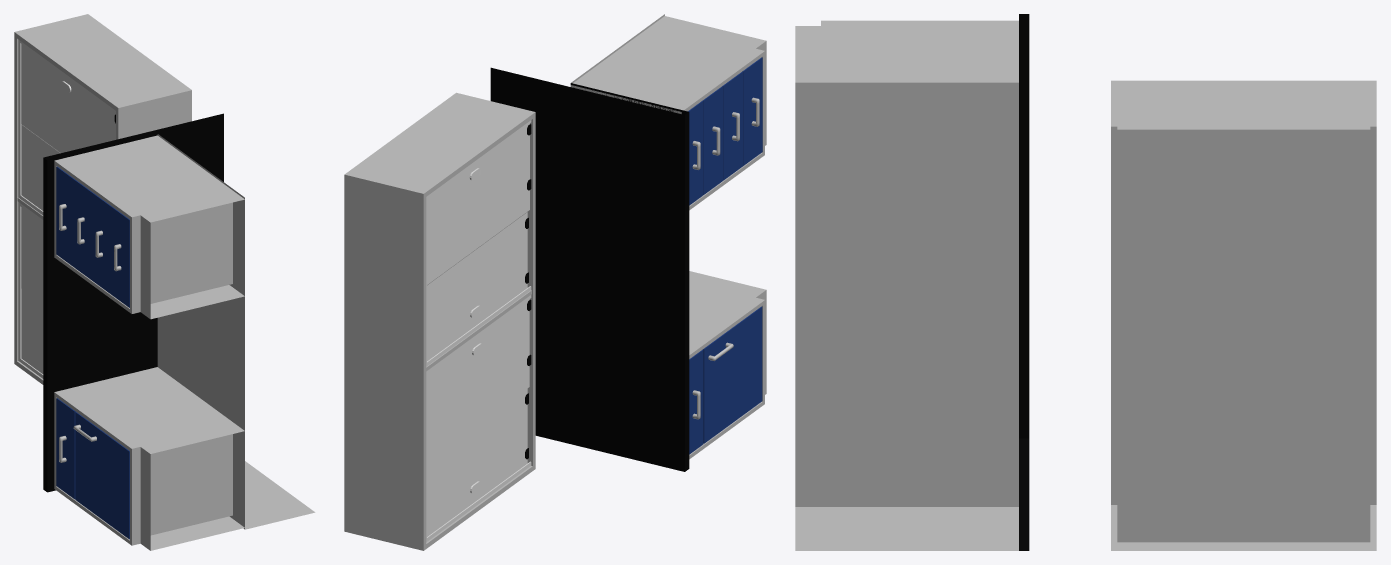
The model's file is Mueble B.dae.
The picture shows the model from 3 angles, left to right: view 1: azimuth 30°, elevation 25°; view 2: azimuth 150°, elevation 25°; view 3: azimuth 270°, elevation 25°; orthographic projection. The views are drawn at different scales.
Parts seen in each view (by area): view 1: Furniture A; view 2: Furniture A; view 3: Furniture A.
Part boxes in pixels (left/top/right/bottom): Furniture A: left=14, top=14, right=315, bottom=550; Furniture A: left=344, top=14, right=766, bottom=550; Furniture A: left=795, top=14, right=1376, bottom=550.
Size of the model in its own units: 1.04 by 2.27 by 1.83.
